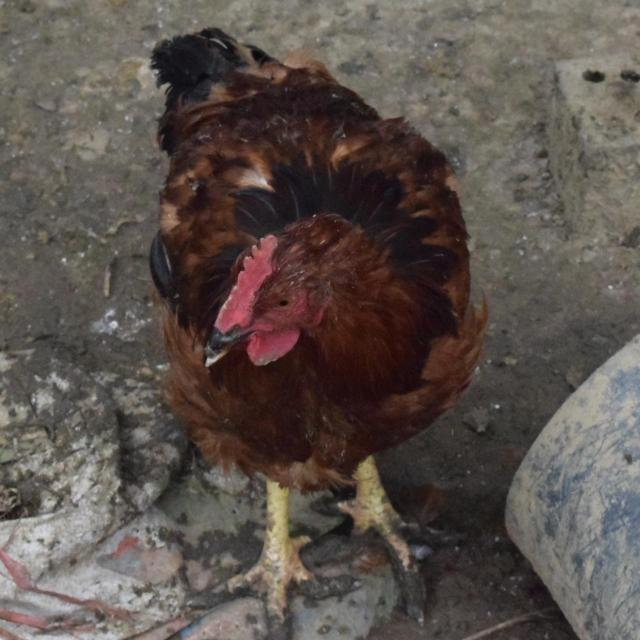cook: (138, 15, 503, 630)
